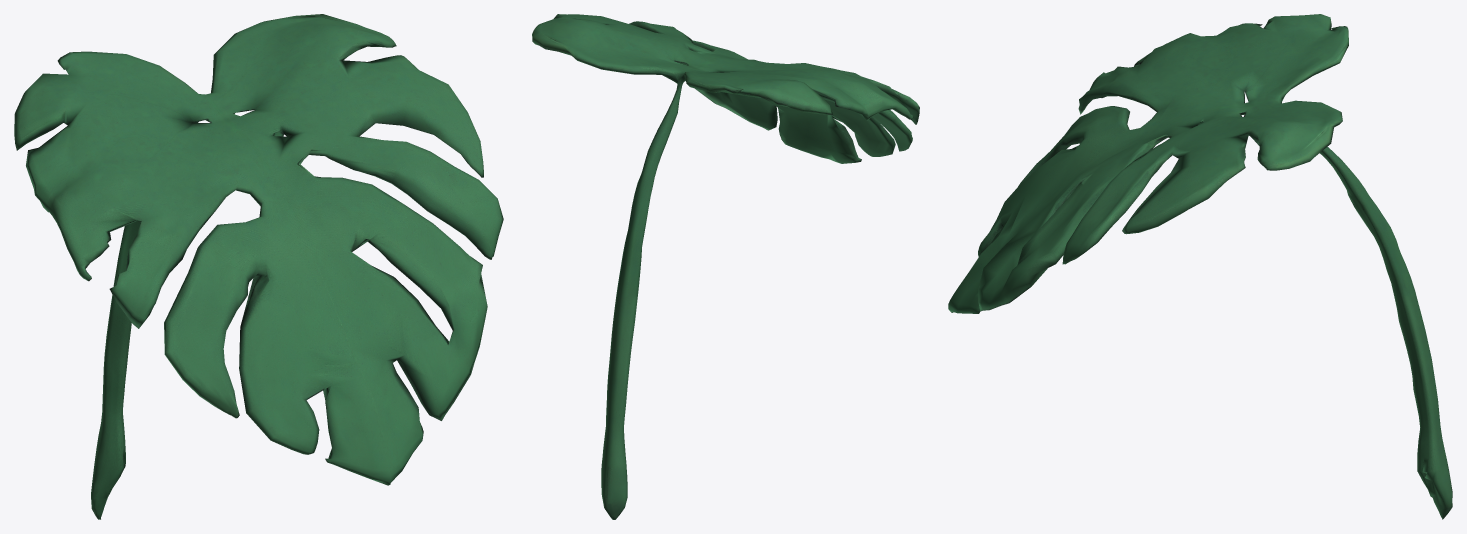
The model's file is monstera_leaf_mature.glb.
The picture shows the model from 3 angles, left to right: view 1: azimuth 30°, elevation 25°; view 2: azimuth 150°, elevation 25°; view 3: azimuth 270°, elevation 25°; orthographic projection. The views are drawn at different scales.
Size of the model in its own units: 1.63 by 1.99 by 2.
1 material, 1 textured.
